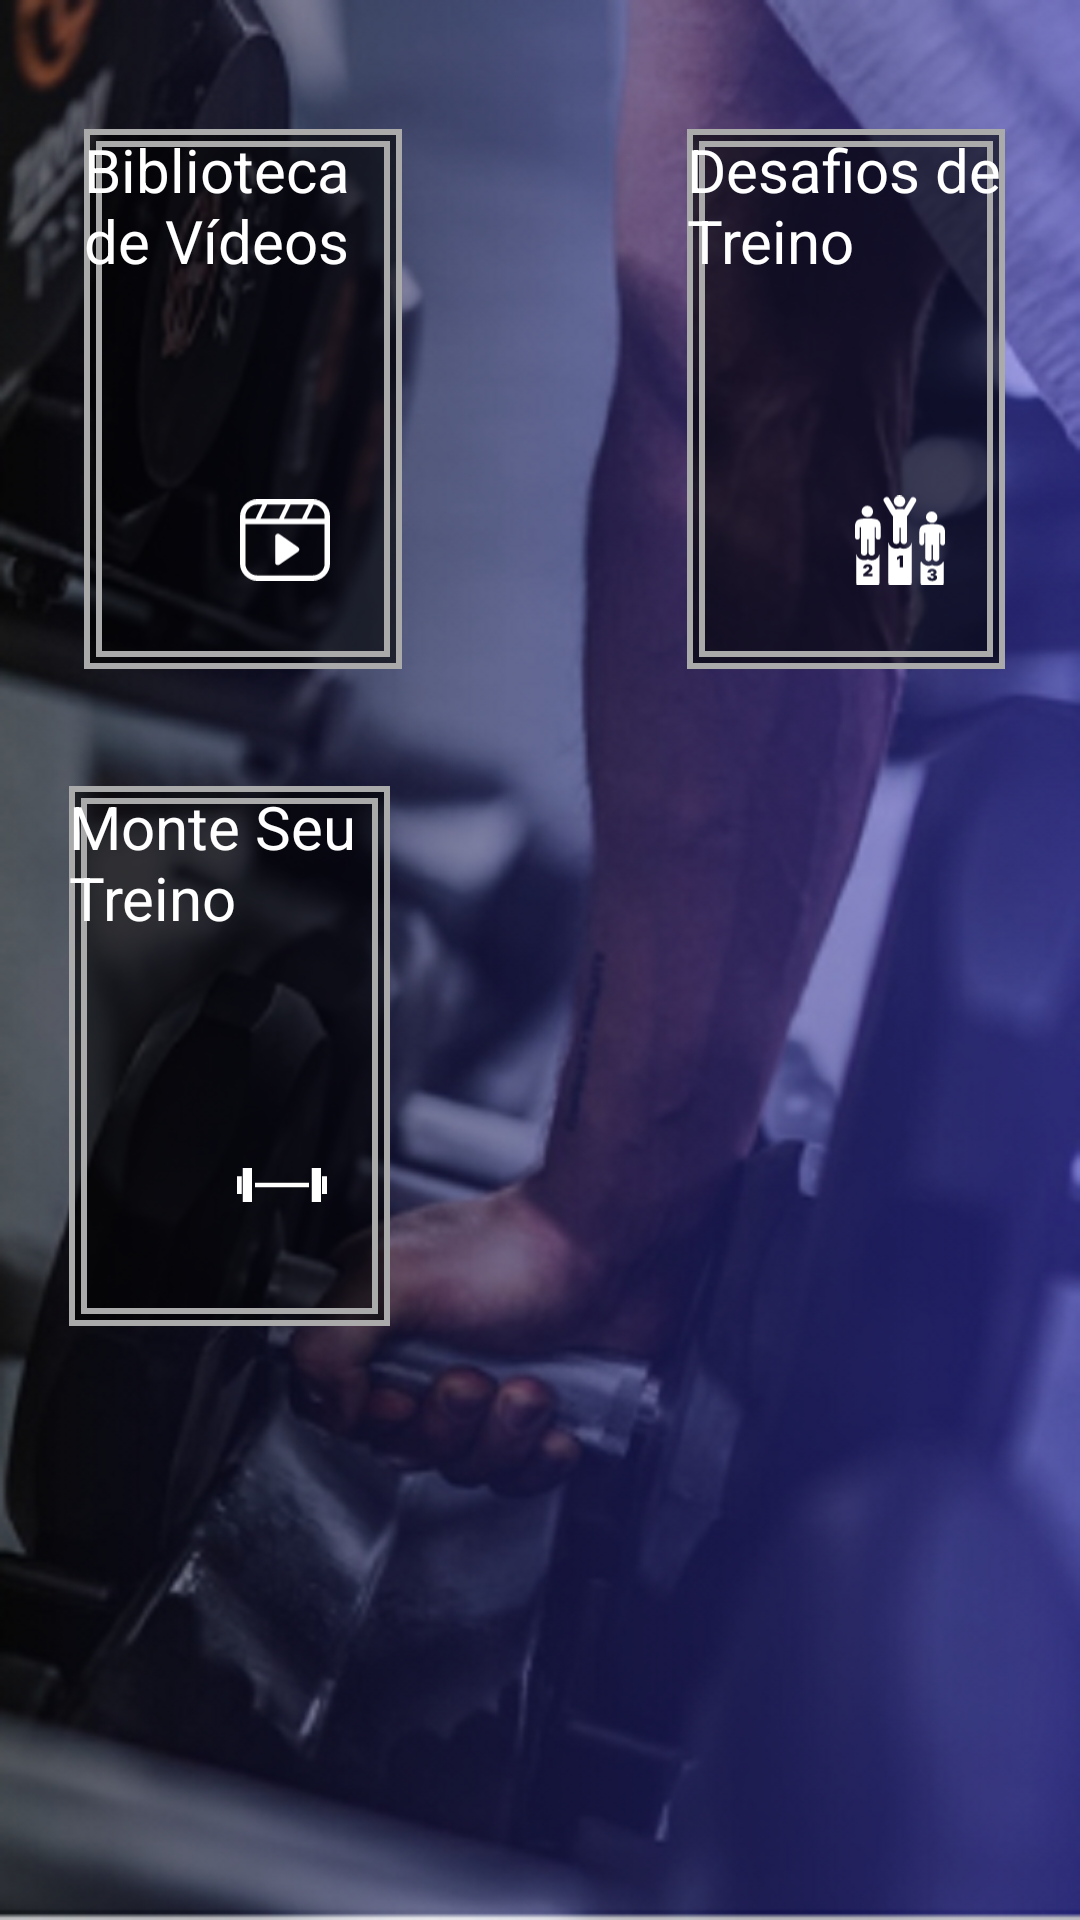

Icons on this 1080px×1920px Android screen, each with its box as (x1, y1, x2, y2):
competition: (855, 465, 975, 615)
gym: (237, 1168, 327, 1202)
video: (240, 499, 330, 581)
